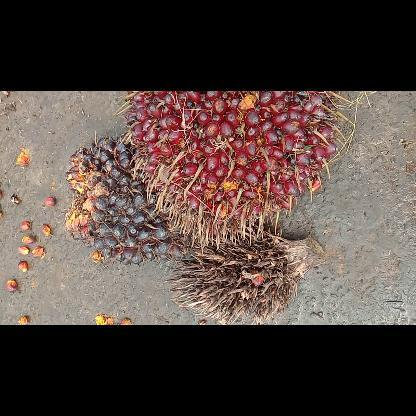Janjang kosong: (169, 224, 325, 324)
TBS masak: (115, 91, 353, 251)
TBS mentah: (65, 130, 191, 264)
